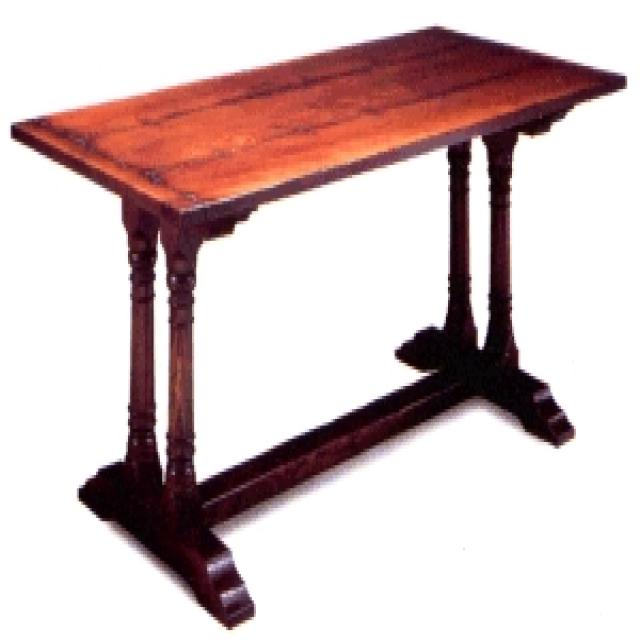table: (11, 26, 629, 631)
